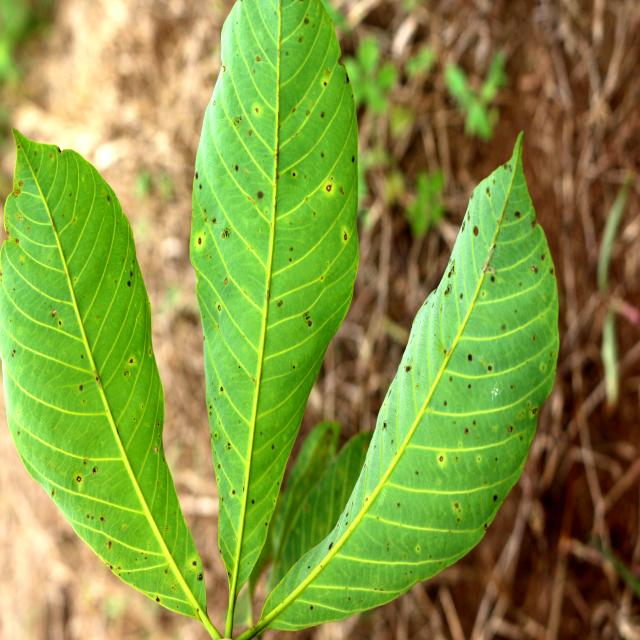Colletotrichum: (473, 226, 479, 236), (326, 185, 331, 191), (439, 456, 444, 462), (198, 238, 202, 245), (344, 234, 347, 240), (130, 358, 133, 364), (218, 305, 221, 311), (225, 278, 228, 284), (293, 172, 295, 177), (233, 490, 235, 494)
